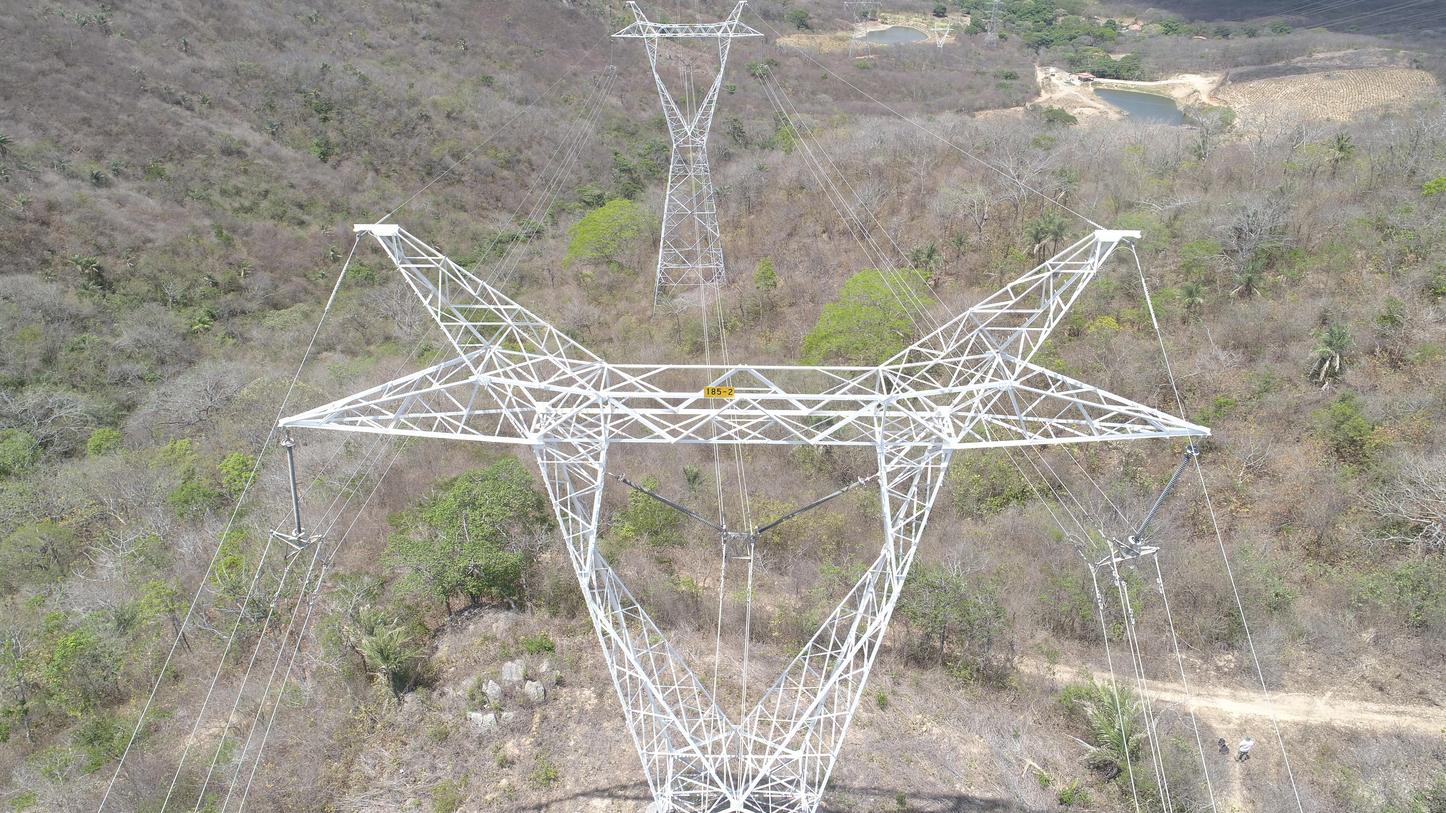power_tower: (271, 223, 1217, 813), (608, 1, 767, 309), (843, 0, 882, 57), (925, 19, 956, 51), (985, 1, 1009, 42)
